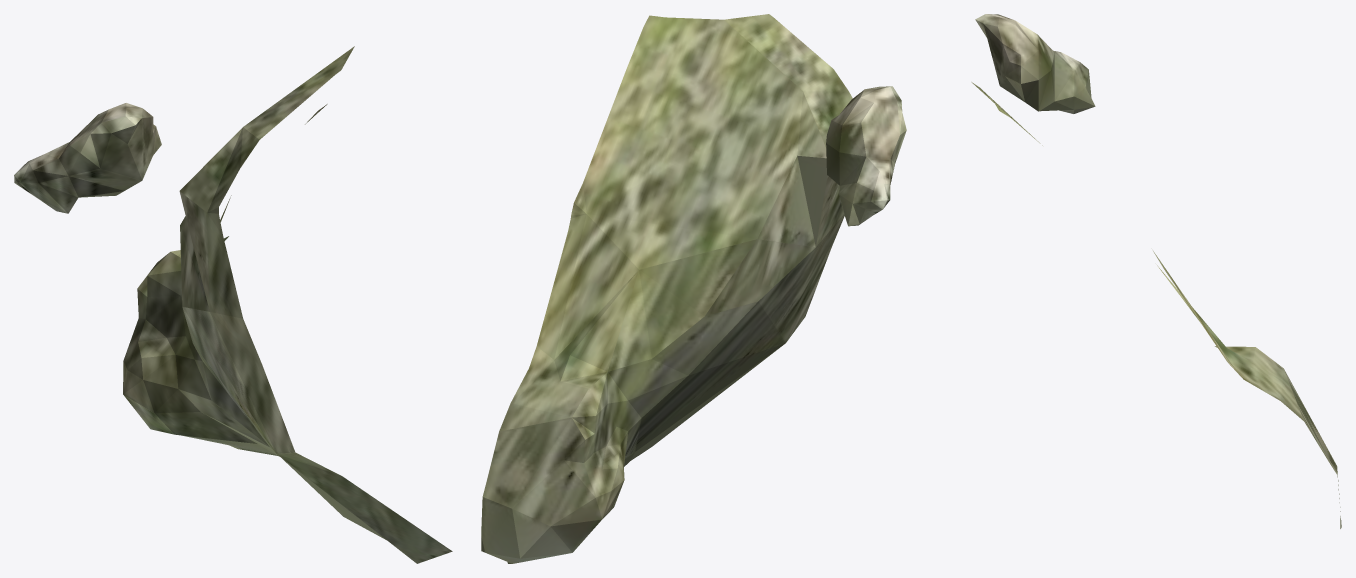
3 renders of one model, left to right at view 1: azimuth 30°, elevation 25°; view 2: azimuth 150°, elevation 25°; view 3: azimuth 270°, elevation 25°, orthographic. The views are drawn at different scales.
Size of the model in its own units: 2.84 by 4.38 by 3.56.
1 material, 1 textured.
